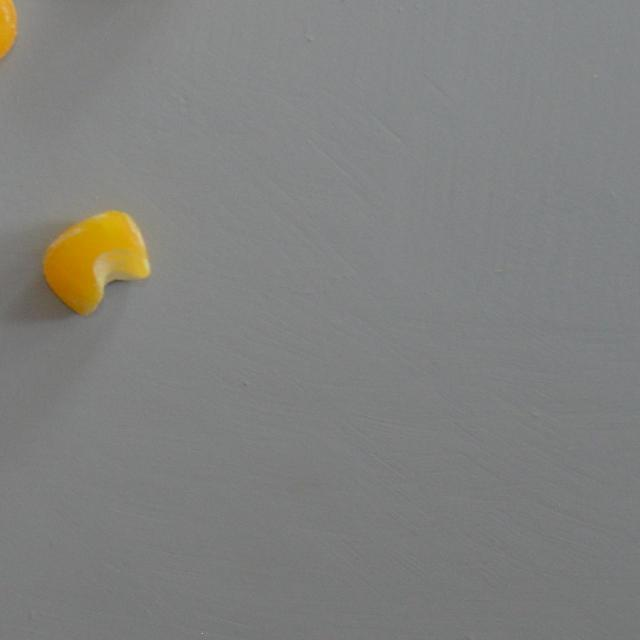no_canjicado: (42, 209, 150, 316)
